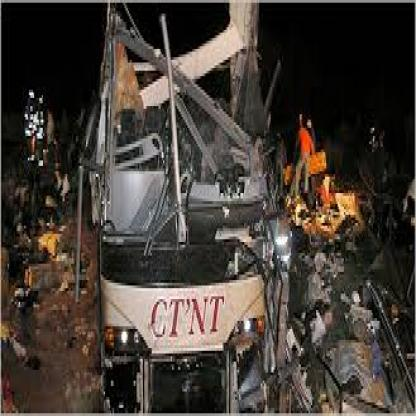accident: (56, 0, 319, 416)
